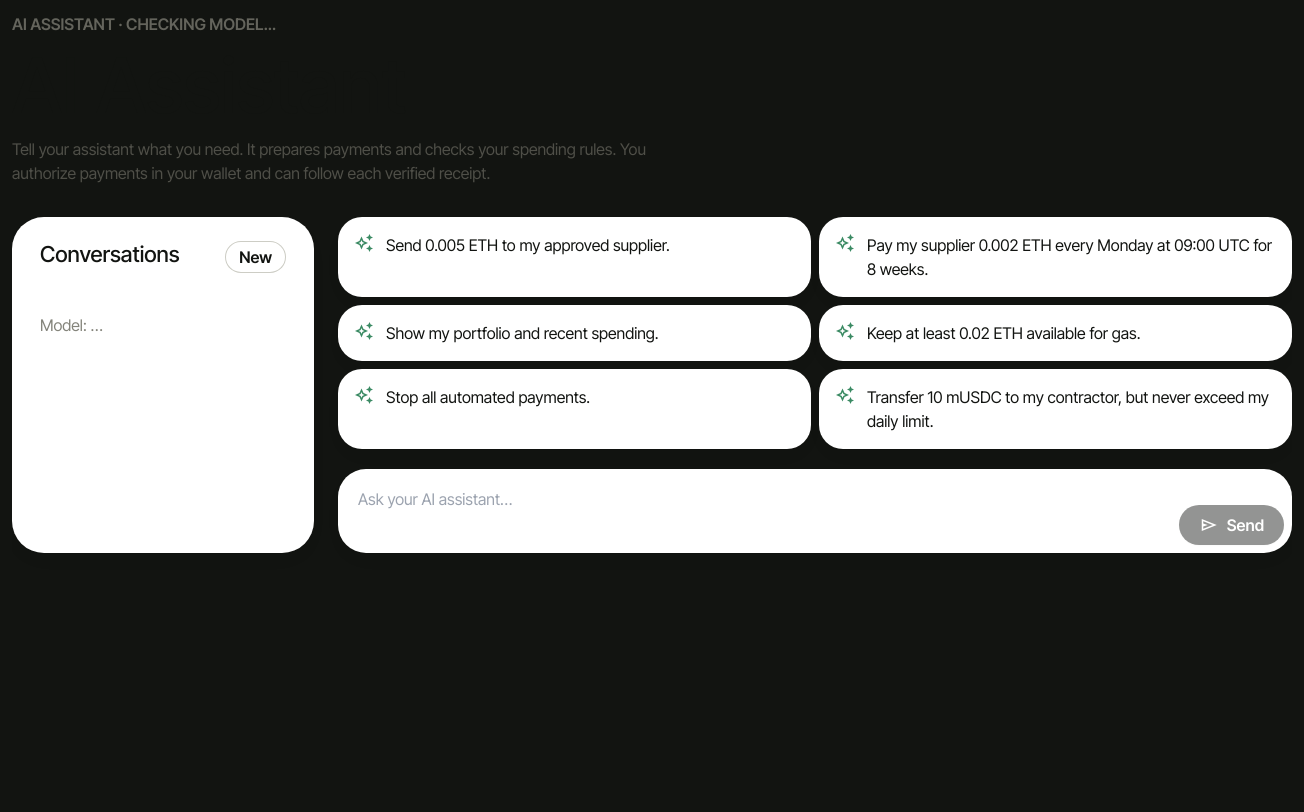
Test case: agent chat › renders the plan, tool statuses and actions rejected by trusted code
The image size is (1304, 812).
Type "Send 0.005 ETH to 0xabc" into the text box with placeholder "Ask your AI assistant…".
click(764, 511); type("Send 0.005 ETH to 0xabc")  # box [358, 477, 1171, 545]
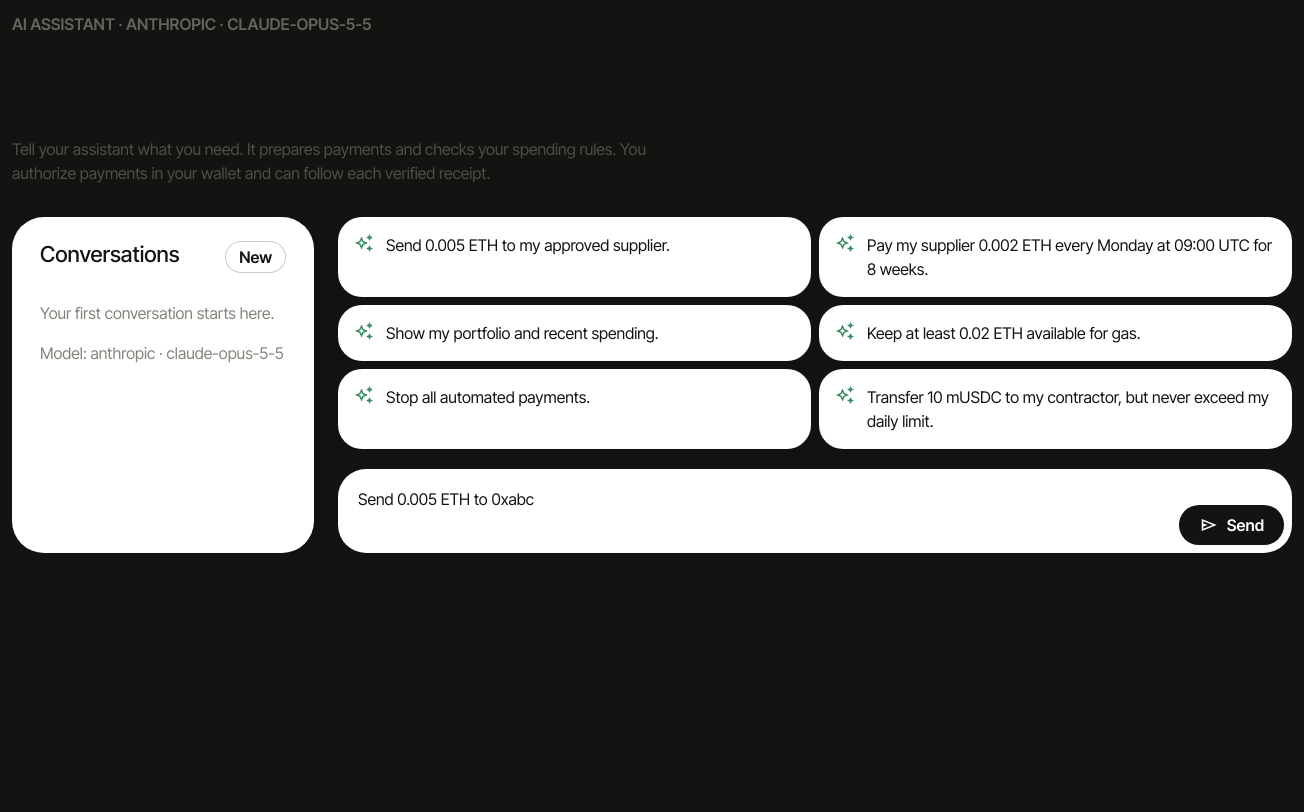
Click the button "Send".
click(1231, 525)  # box [1179, 505, 1284, 545]
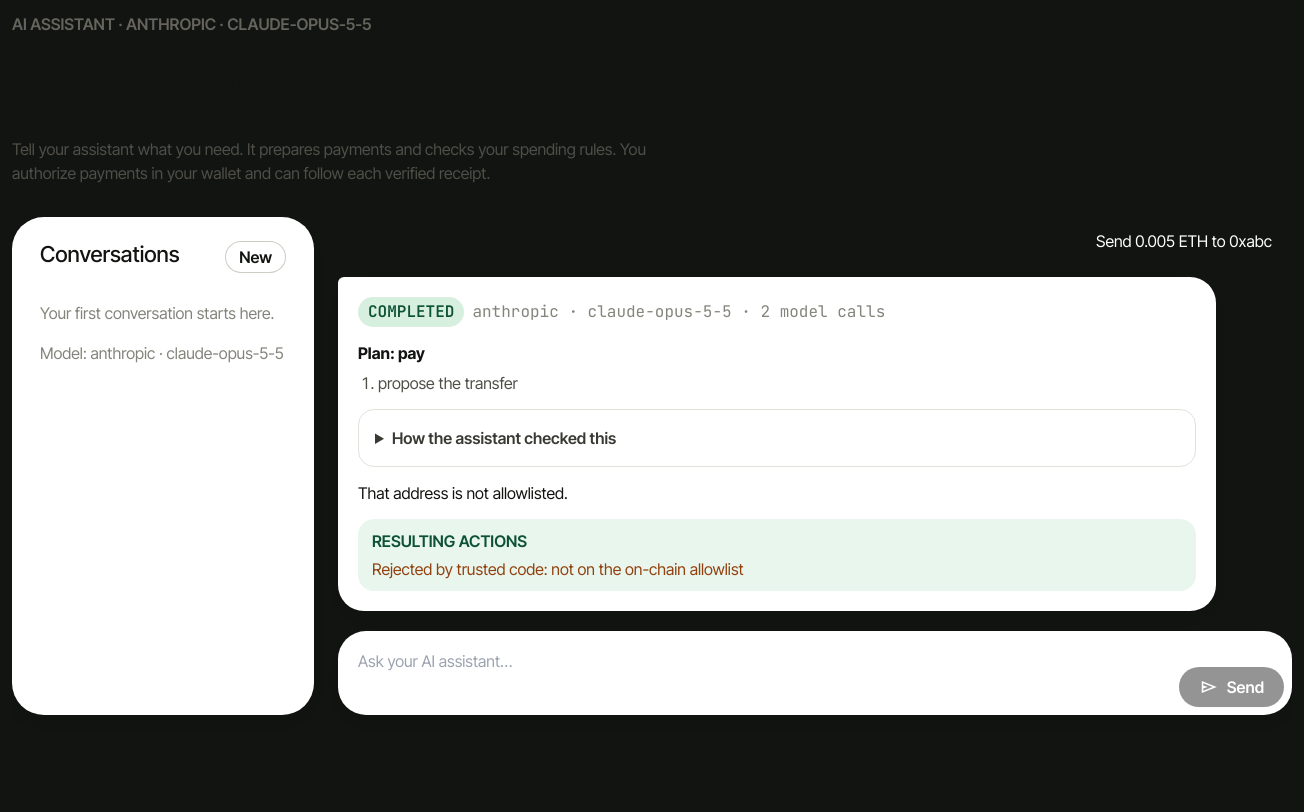
Result: the text "Plan: pay" is shown at [358, 343, 425, 363]
Result: the text "Rejected by trusted code: not on the on-chain allowlist" is shown at [372, 559, 744, 579]
Result: the text "That address is not allowlisted." is shown at [358, 483, 568, 503]
